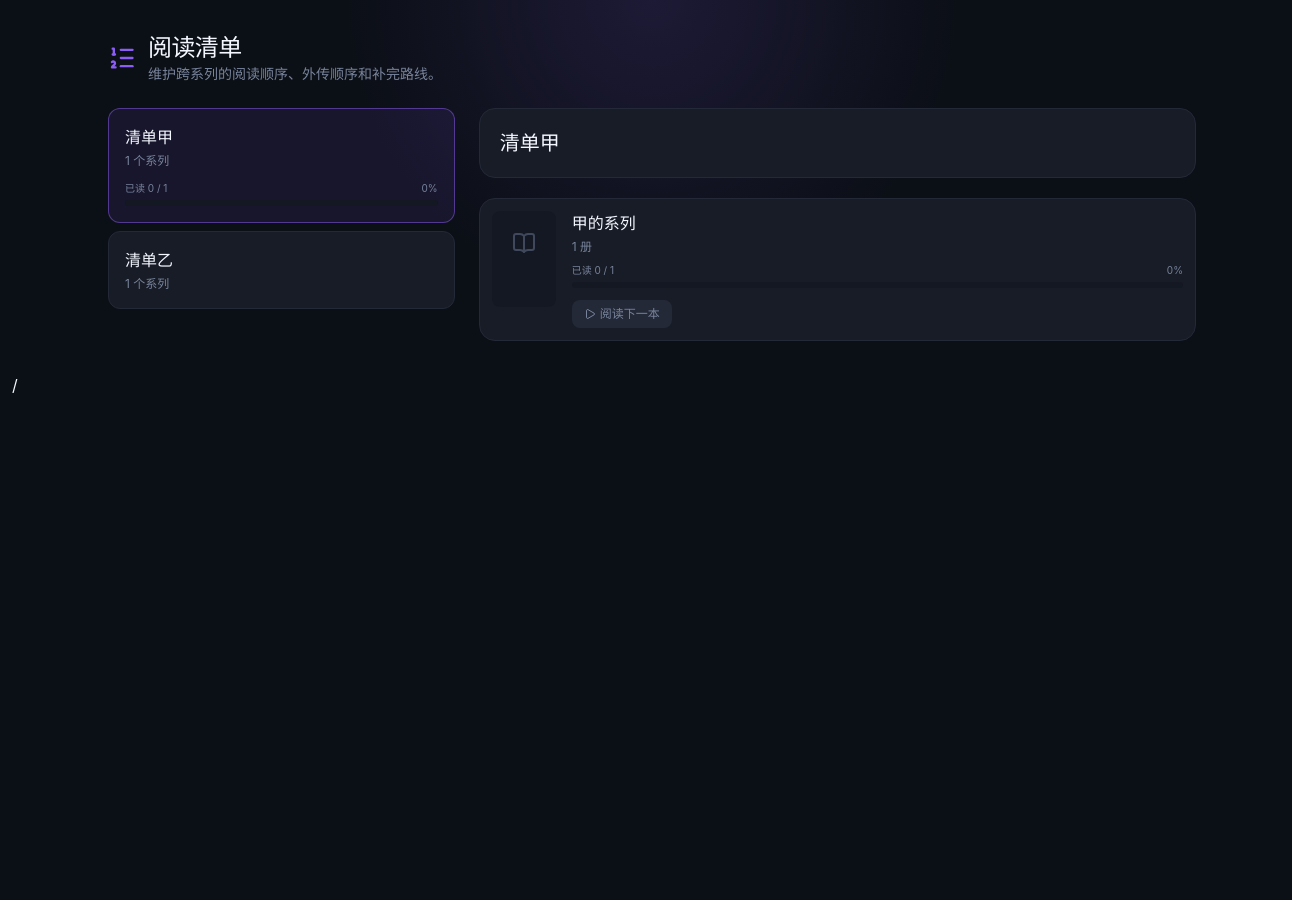
Scenario: 阅读清单切换取数 › 切过去的清单成员取失败时，右栏清空并报错，而不是留着上一个清单的系列
The width and height of the screenshot is (1292, 900).
Expected: the button "甲的系列" is shown, x1=572 y1=211 x2=636 y2=235
Click the text "清单乙". click: point(149, 260)
box: x1=125 y1=250 x2=173 y2=270
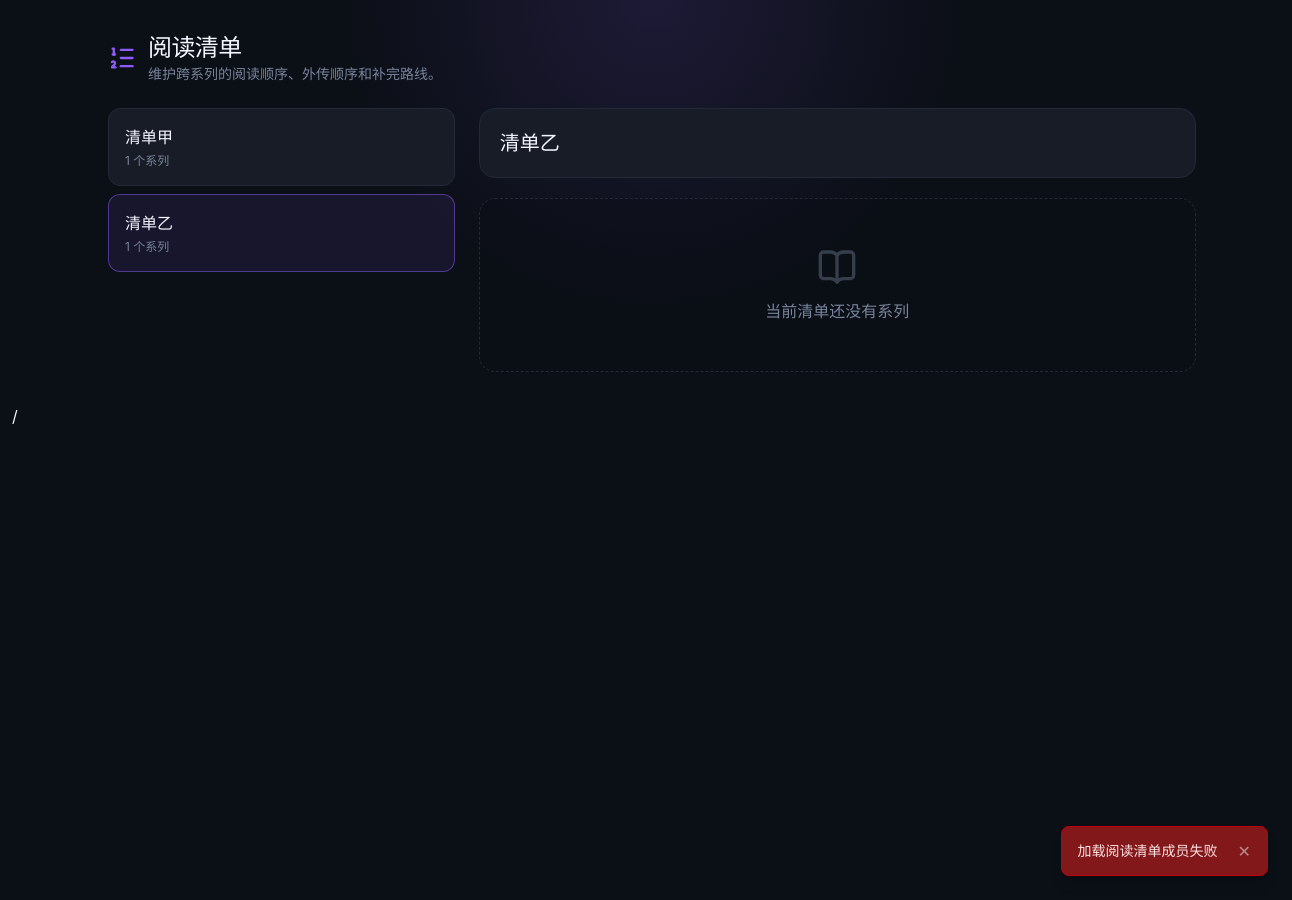
Now the button "甲的系列" is gone
Now the text "加载阅读清单成员失败" is shown, box x1=1078 y1=841 x2=1218 y2=861
